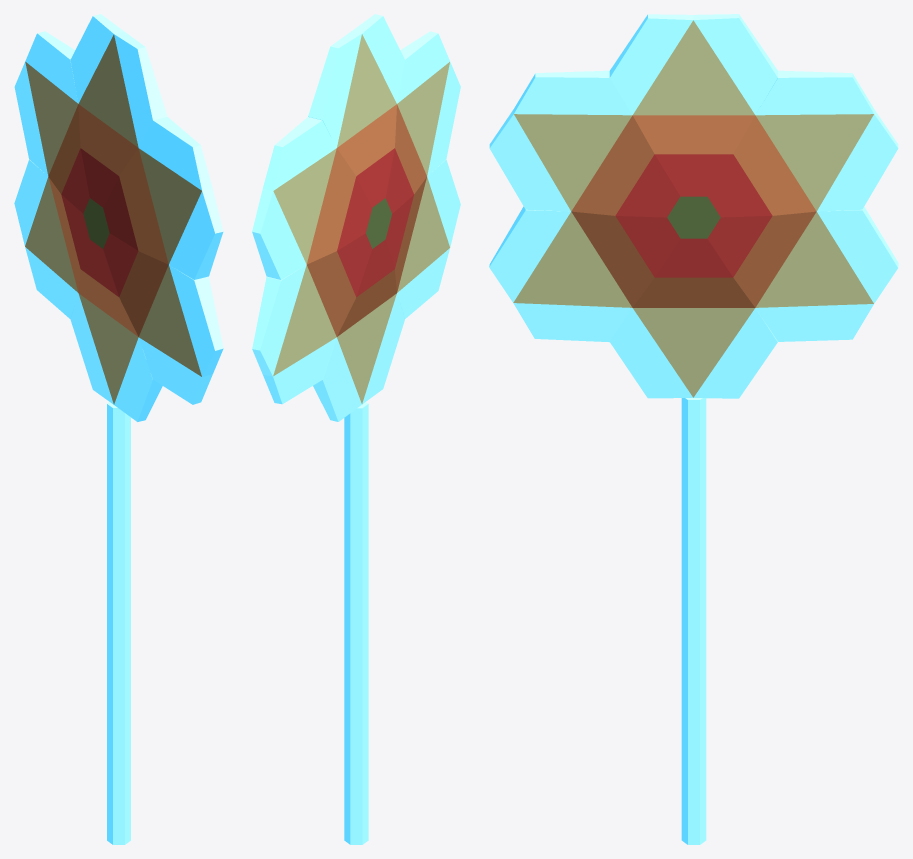
Rendered from Flower.fbx.
3 views of the same model, side by side, from view 1: azimuth 30°, elevation 25°; view 2: azimuth 150°, elevation 25°; view 3: azimuth 270°, elevation 25° (orthographic).
Parts seen in each view (by area): view 1: Cylinder.001; view 2: Cylinder.001; view 3: Cylinder.001.
Boxes of the visible parts, bbox=[...] form: Cylinder.001: bbox=[14, 14, 223, 844]; Cylinder.001: bbox=[252, 14, 460, 844]; Cylinder.001: bbox=[489, 14, 898, 844].
Bounding box in the file's own units: 43.12 × 741 × 334.
